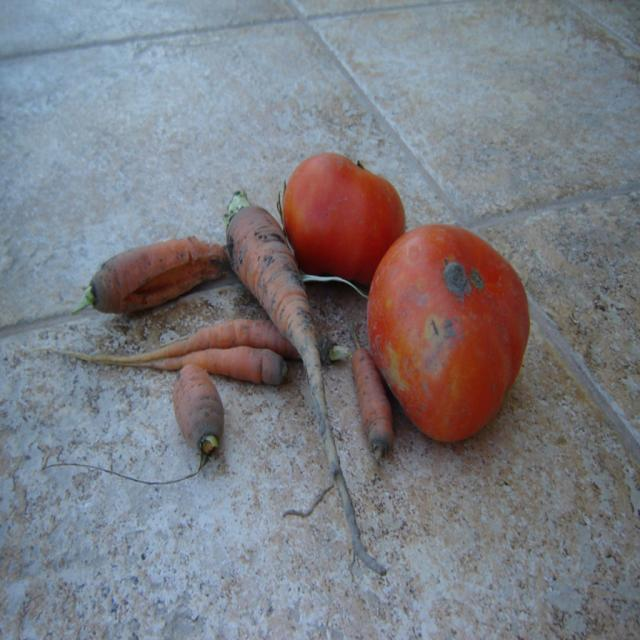Tomato: (366, 222, 531, 450), (283, 153, 406, 289)
